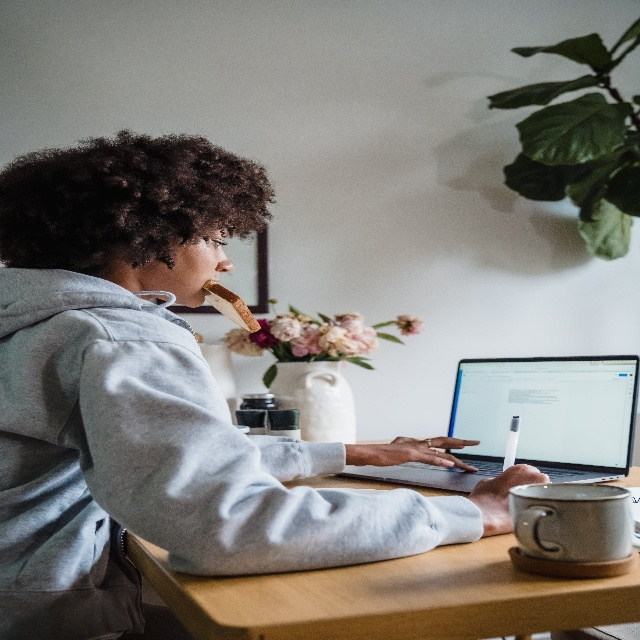Sin_guantes: (468, 463, 551, 540), (358, 436, 480, 473)
